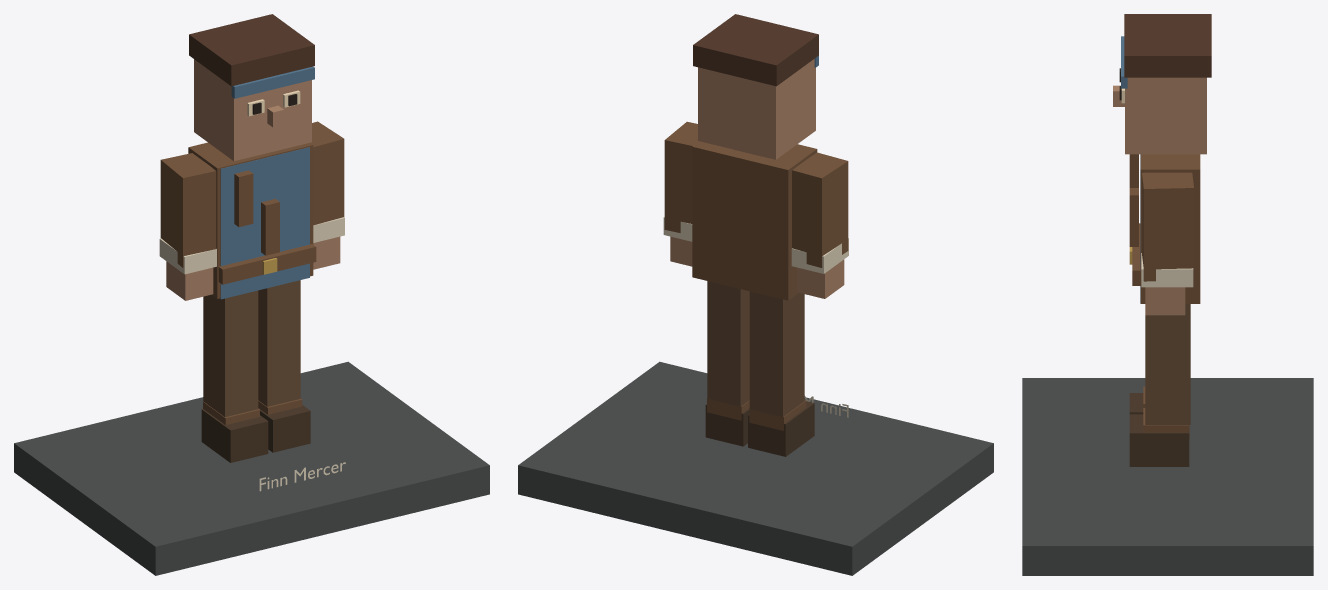
The model's file is Dockworker.fbx.
3 views of the same model, side by side, from view 1: azimuth 30°, elevation 25°; view 2: azimuth 150°, elevation 25°; view 3: azimuth 270°, elevation 25° (orthographic). The views are drawn at different scales.
Parts seen in each view (by area): view 1: Finn Mercer | Display floor, Finn Mercer | torso, Finn Mercer | head, Finn Mercer | L leg, Finn Mercer | hair cap, Finn Mercer | L upper arm, Finn Mercer | R leg, Finn Mercer | R upper arm, Finn Mercer | L boot, Finn Mercer | coat body, Finn Mercer | R boot, Finn Mercer | belt (+7 smaller); view 2: Finn Mercer | Display floor, Finn Mercer | coat body, Finn Mercer | head, Finn Mercer | L leg, Finn Mercer | hair cap, Finn Mercer | L upper arm, Finn Mercer | R leg, Finn Mercer | R upper arm, Finn Mercer | L boot, Finn Mercer | L hand, Finn Mercer | R boot, Finn Mercer | L cuff (+1 smaller); view 3: Finn Mercer | Display floor, Finn Mercer | head, Finn Mercer | hair cap, Finn Mercer | R upper arm, Finn Mercer | R leg, Finn Mercer | coat body, Finn Mercer | R boot, Finn Mercer | R hand, Finn Mercer | R cuff, Finn Mercer | strap lower, Finn Mercer | R boot cuff, Finn Mercer | belt.
Boxes of the visible parts, x1=… form: Finn Mercer | Display floor: x1=14, y1=361, x2=489, y2=575; Finn Mercer | torso: x1=220, y1=147, x2=309, y2=299; Finn Mercer | head: x1=194, y1=59, x2=311, y2=161; Finn Mercer | L leg: x1=203, y1=290, x2=258, y2=417; Finn Mercer | hair cap: x1=189, y1=14, x2=314, y2=86; Finn Mercer | L upper arm: x1=160, y1=153, x2=216, y2=267; Finn Mercer | R leg: x1=258, y1=280, x2=300, y2=406; Finn Mercer | R upper arm: x1=310, y1=121, x2=344, y2=225; Finn Mercer | L boot: x1=201, y1=409, x2=268, y2=462; Finn Mercer | coat body: x1=188, y1=142, x2=313, y2=298; Finn Mercer | R boot: x1=258, y1=405, x2=310, y2=452; Finn Mercer | belt: x1=218, y1=244, x2=316, y2=284; Finn Mercer | Display floor: x1=518, y1=361, x2=993, y2=575; Finn Mercer | coat body: x1=692, y1=141, x2=817, y2=300; Finn Mercer | head: x1=698, y1=59, x2=815, y2=159; Finn Mercer | L leg: x1=749, y1=291, x2=804, y2=417; Finn Mercer | hair cap: x1=693, y1=14, x2=818, y2=86; Finn Mercer | L upper arm: x1=792, y1=152, x2=848, y2=267; Finn Mercer | R leg: x1=707, y1=281, x2=749, y2=406; Finn Mercer | R upper arm: x1=664, y1=121, x2=699, y2=232; Finn Mercer | L boot: x1=748, y1=401, x2=814, y2=456; Finn Mercer | L hand: x1=797, y1=259, x2=844, y2=298; Finn Mercer | R boot: x1=705, y1=404, x2=749, y2=446; Finn Mercer | L cuff: x1=791, y1=238, x2=848, y2=273; Finn Mercer | Display floor: x1=1022, y1=378, x2=1313, y2=575; Finn Mercer | head: x1=1125, y1=77, x2=1206, y2=154; Finn Mercer | hair cap: x1=1124, y1=14, x2=1211, y2=77; Finn Mercer | R upper arm: x1=1142, y1=172, x2=1193, y2=281; Finn Mercer | R leg: x1=1145, y1=304, x2=1190, y2=424; Finn Mercer | coat body: x1=1140, y1=154, x2=1200, y2=303; Finn Mercer | R boot: x1=1129, y1=414, x2=1189, y2=466; Finn Mercer | R hand: x1=1145, y1=287, x2=1185, y2=315; Finn Mercer | R cuff: x1=1141, y1=253, x2=1193, y2=287; Finn Mercer | strap lower: x1=1129, y1=188, x2=1138, y2=246; Finn Mercer | R boot cuff: x1=1143, y1=408, x2=1189, y2=439; Finn Mercer | belt: x1=1132, y1=223, x2=1140, y2=285.
Bounding box in the file's own units: 300 × 381 × 220.
